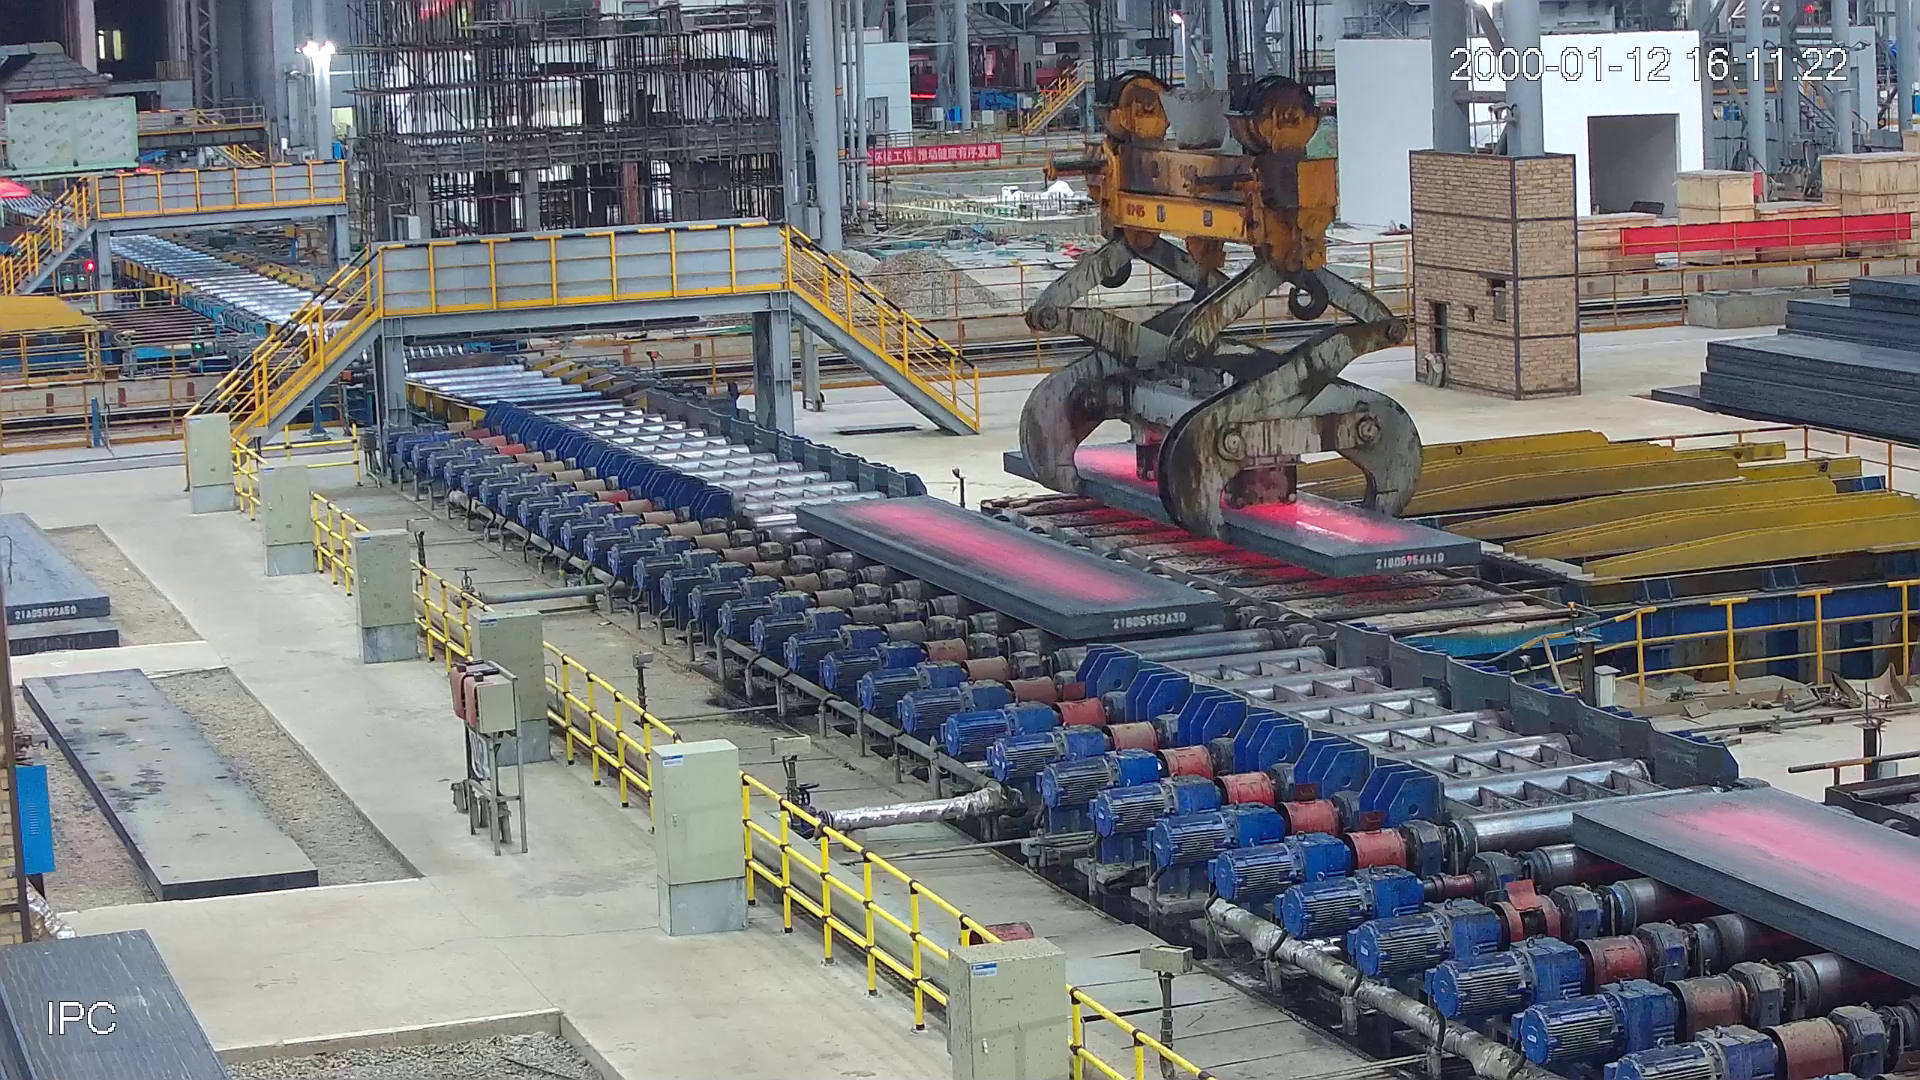craneandslab: (1004, 73, 1480, 578)
slab: (1578, 789, 1920, 988), (799, 495, 1222, 641)
